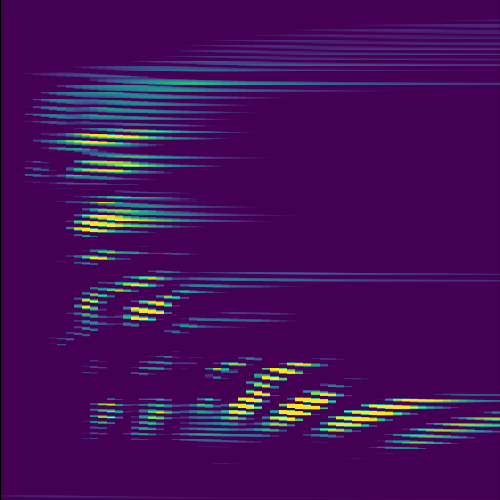semblance: (76, 271, 183, 332), (226, 357, 329, 418), (321, 391, 452, 438), (70, 196, 166, 240), (398, 409, 500, 445), (270, 385, 341, 430), (59, 126, 172, 150), (69, 154, 172, 176), (76, 244, 127, 265), (211, 355, 245, 380)
